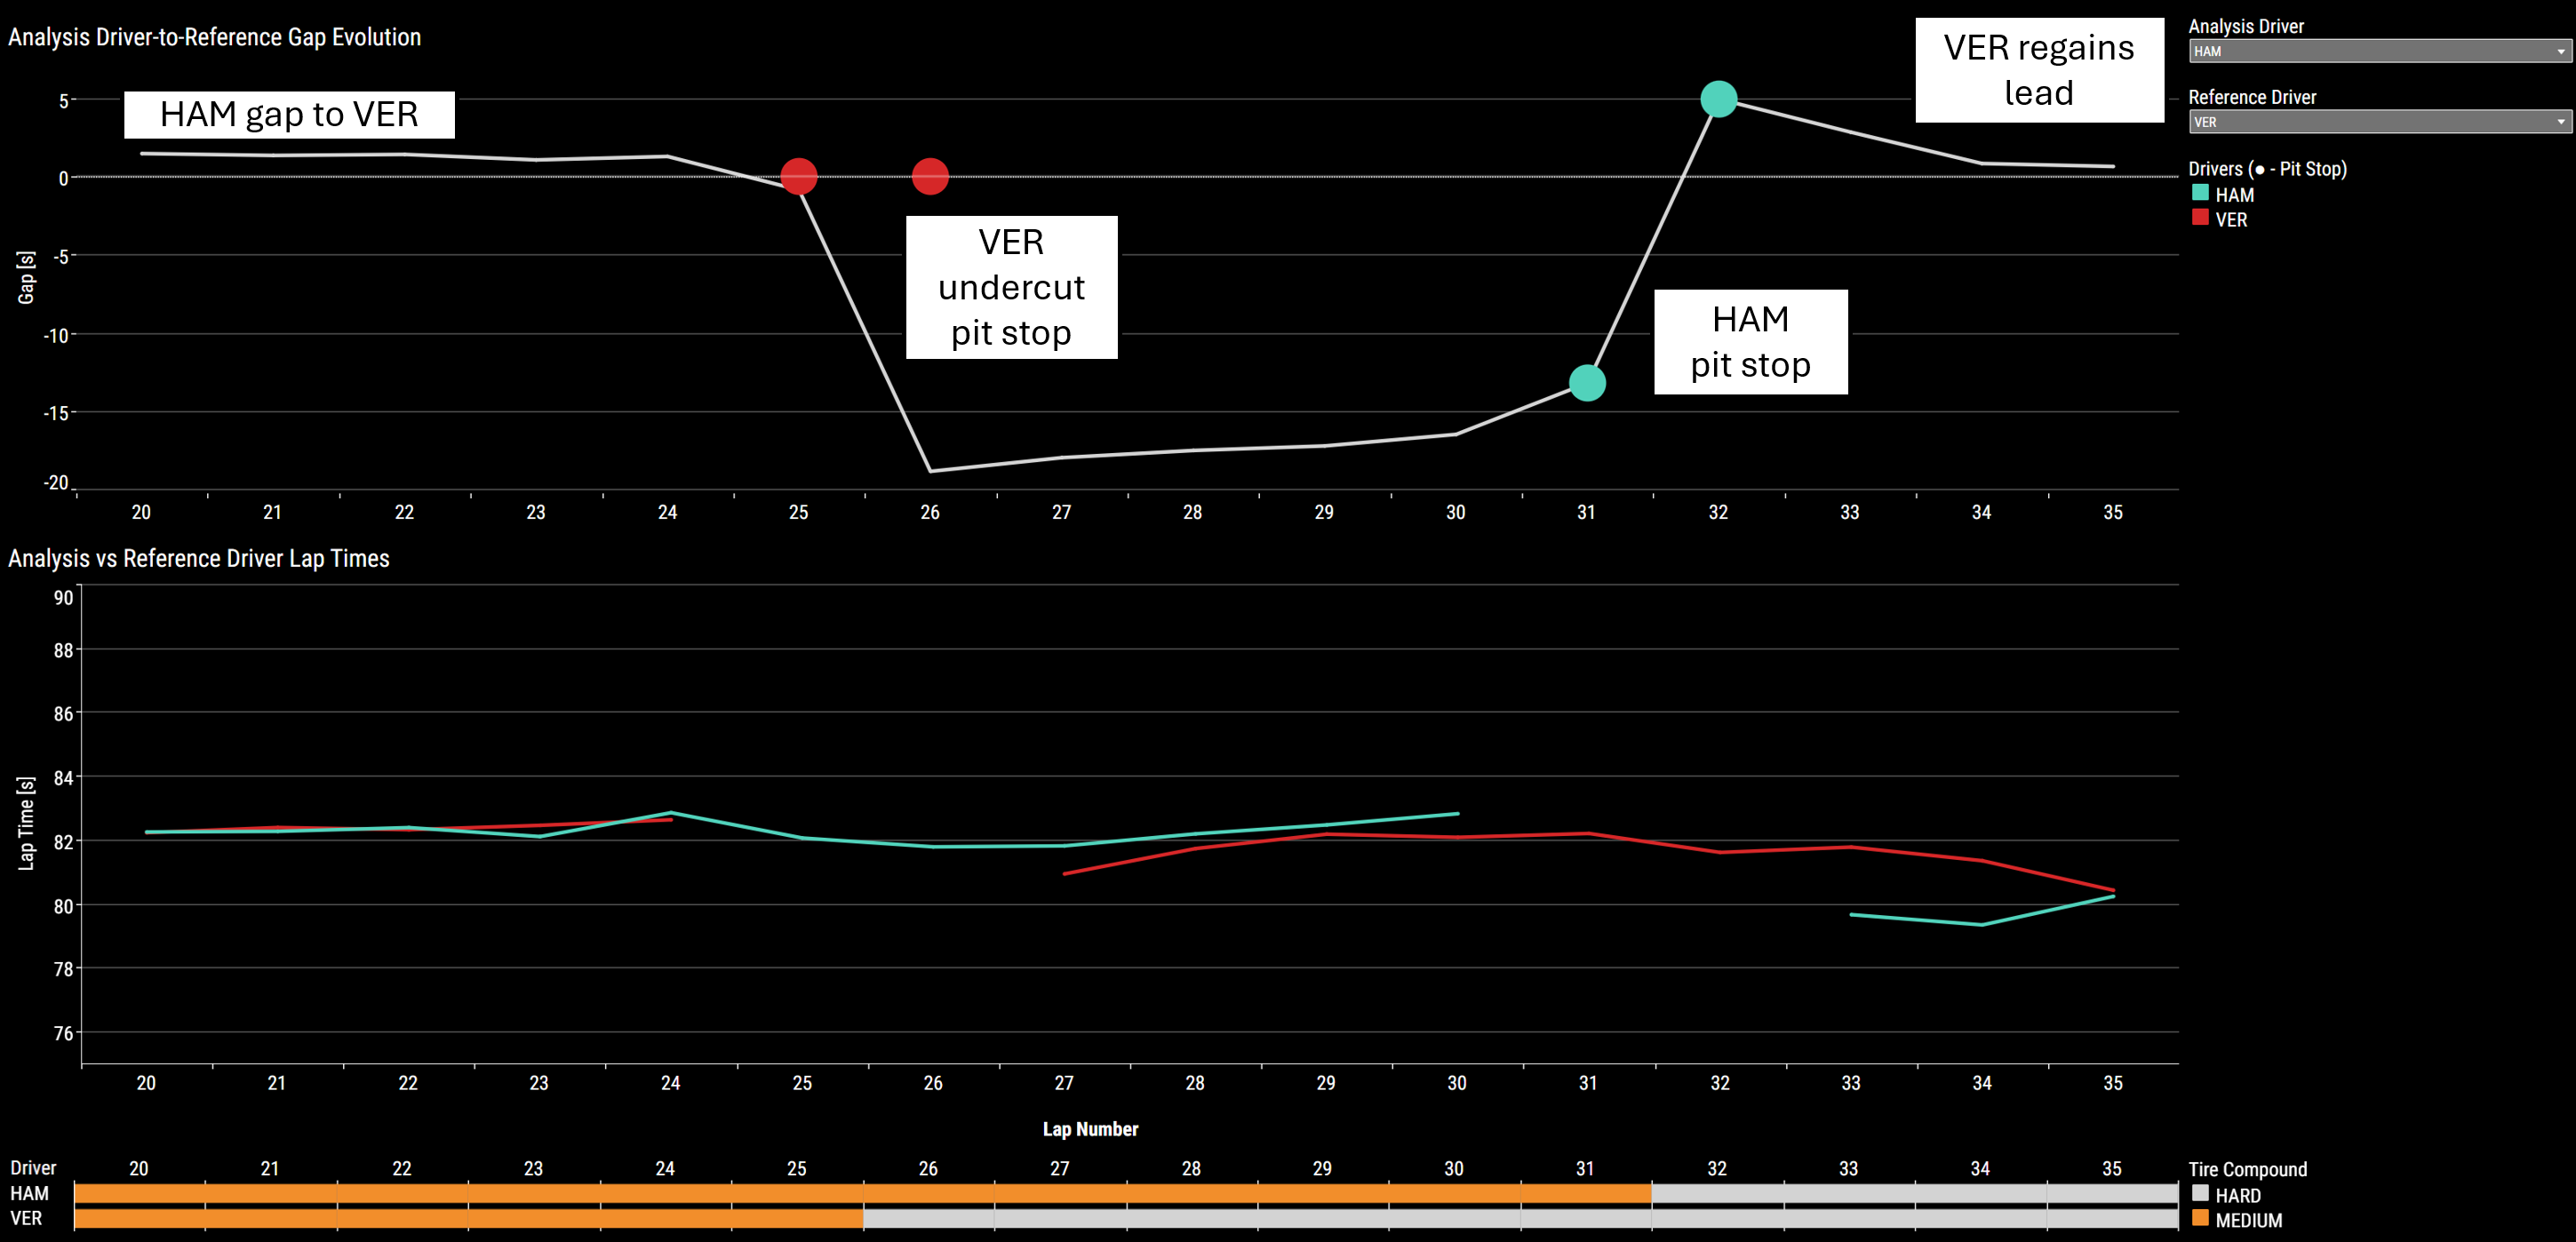

What the dashboard file says about the page in this screenshot:
{"tool":"tableau","page":{"name":"Pit Stop Analysis Dashboard","canvas":[1600,1000],"ordinal":0},"visuals":[{"type":"worksheet","title":"Gap Evolution","mark":"Line","rows":["Calculation_0014251711844415","Calculation_0014251726299209"],"cols":["LapNumber"],"box":[8,8,1341,420]},{"type":"parameter","param":"[Parameters].[Driver Parameter]","box":[1349,8,243,56]},{"type":"parameter","param":"[Parameters].[Driver Parameter 2]","box":[1349,64,243,56]},{"type":"legend","title":"Gap Evolution","param":"[federated.19q7it41t6p34u14jzlwk162982t].[none:Driver:nk]","box":[1349,120,243,110]},{"type":"worksheet","title":"Lap Time Comparison","mark":"Line","rows":["calc_lap_time_sec"],"cols":["LapNumber"],"box":[8,428,1341,420]},{"type":"parameter","param":"[Parameters].[Lap Number Parameter]","box":[1349,428,243,72]},{"type":"parameter","param":"[Parameters].[Lap Number Parameter 2]","box":[1349,500,243,87]},{"type":"worksheet","title":"Driver Status Warning","mark":"Automatic","box":[1349,587,243,295]},{"type":"text","box":[8,848,1341,34]},{"type":"worksheet","title":"Tire Compound","mark":"GanttBar","rows":["Driver"],"cols":["LapNumber"],"box":[8,882,1341,110]},{"type":"legend","title":"Tire Compound","param":"[federated.19q7it41t6p34u14jzlwk162982t].[none:Compound:nk]","box":[1349,882,243,110]}]}

Visuals, with their boxes on the page's 1600x1000 design canvas (x1, y1, x2, y2). These are canvas units, not pixel positions in the 2576x1242 screenshot, which may show the page scaled, cropped or inside an application window:
"Gap Evolution" worksheet (Line marks): <region>8, 8, 1349, 428</region>
parameter: <region>1349, 8, 1592, 64</region>
parameter: <region>1349, 64, 1592, 120</region>
"Gap Evolution" legend: <region>1349, 120, 1592, 230</region>
"Lap Time Comparison" worksheet (Line marks): <region>8, 428, 1349, 848</region>
parameter: <region>1349, 428, 1592, 500</region>
parameter: <region>1349, 500, 1592, 587</region>
"Driver Status Warning" worksheet: <region>1349, 587, 1592, 882</region>
text: <region>8, 848, 1349, 882</region>
"Tire Compound" worksheet (GanttBar marks): <region>8, 882, 1349, 992</region>
"Tire Compound" legend: <region>1349, 882, 1592, 992</region>
